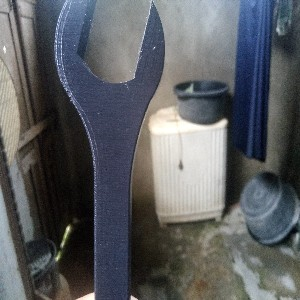spanner: (53, 1, 166, 300)
